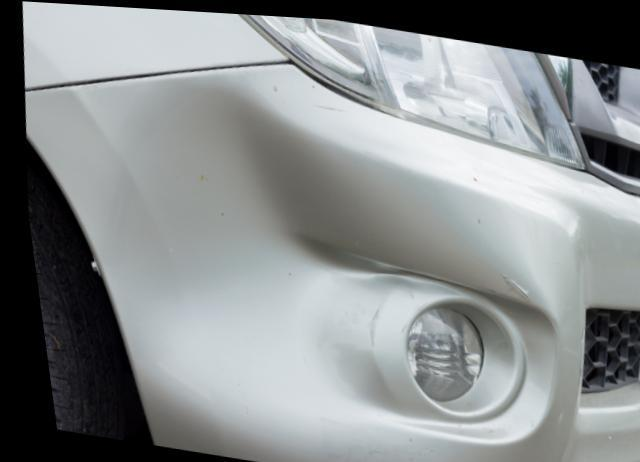dent: (98, 91, 364, 431)
